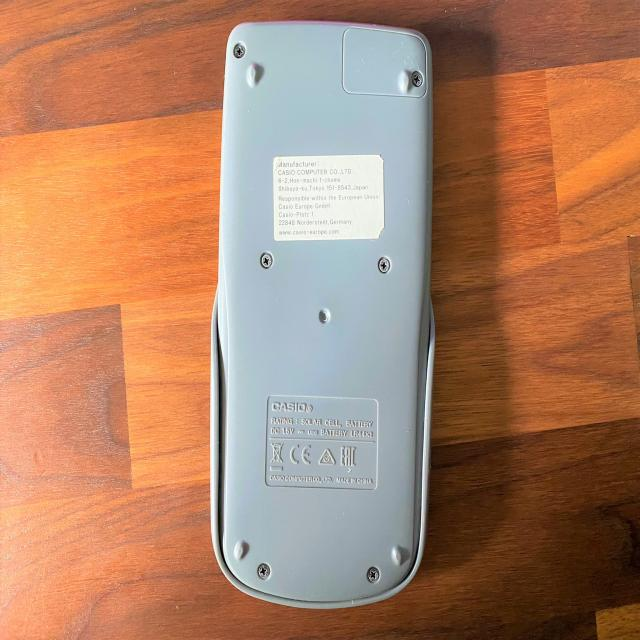PhillipsScrewHead: (261, 252, 273, 268), (368, 567, 380, 582), (234, 43, 244, 59), (258, 565, 270, 578), (412, 71, 422, 86), (379, 258, 389, 272)
